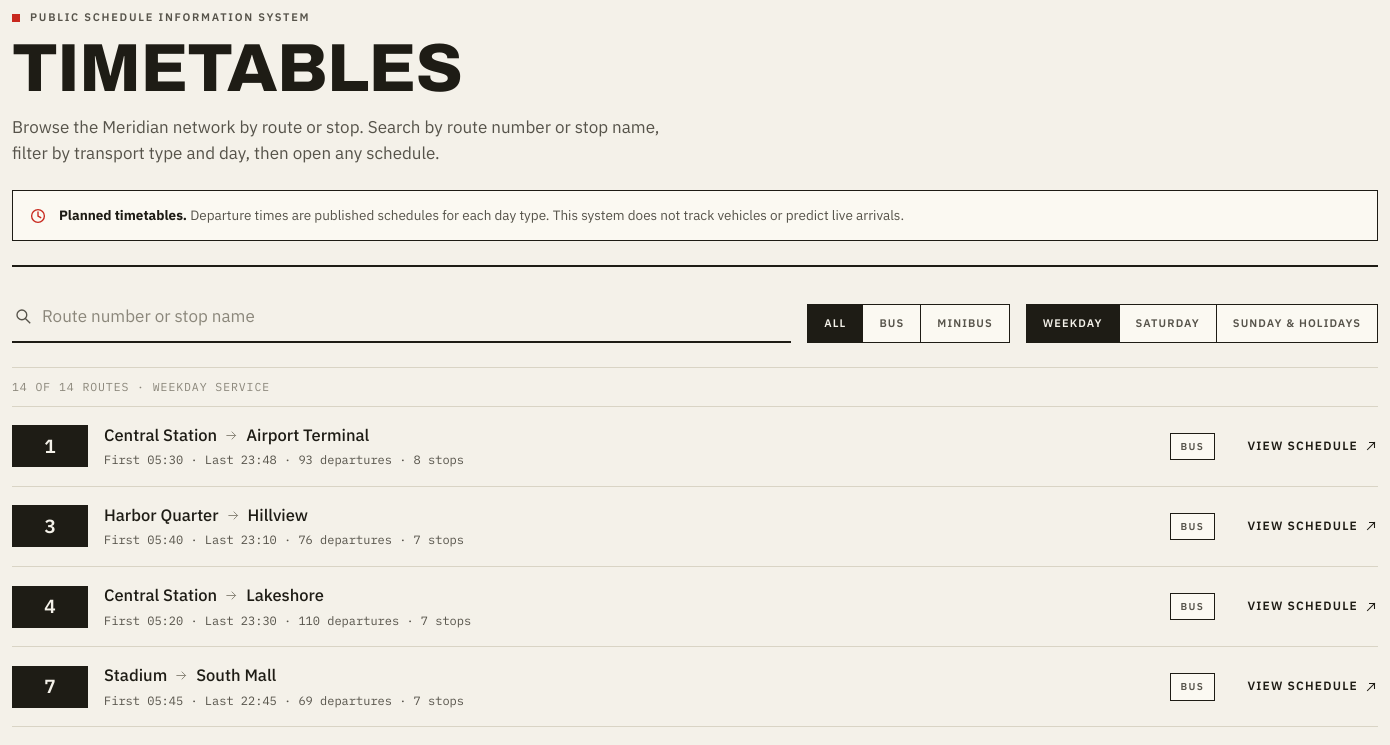
Test case: RouteListComponent › shows the empty state for unmatched searches and restores rows on reset
In the search field with id "route-search": coordinates (416, 316) [42,299,789,333], type "zzz-no-match"
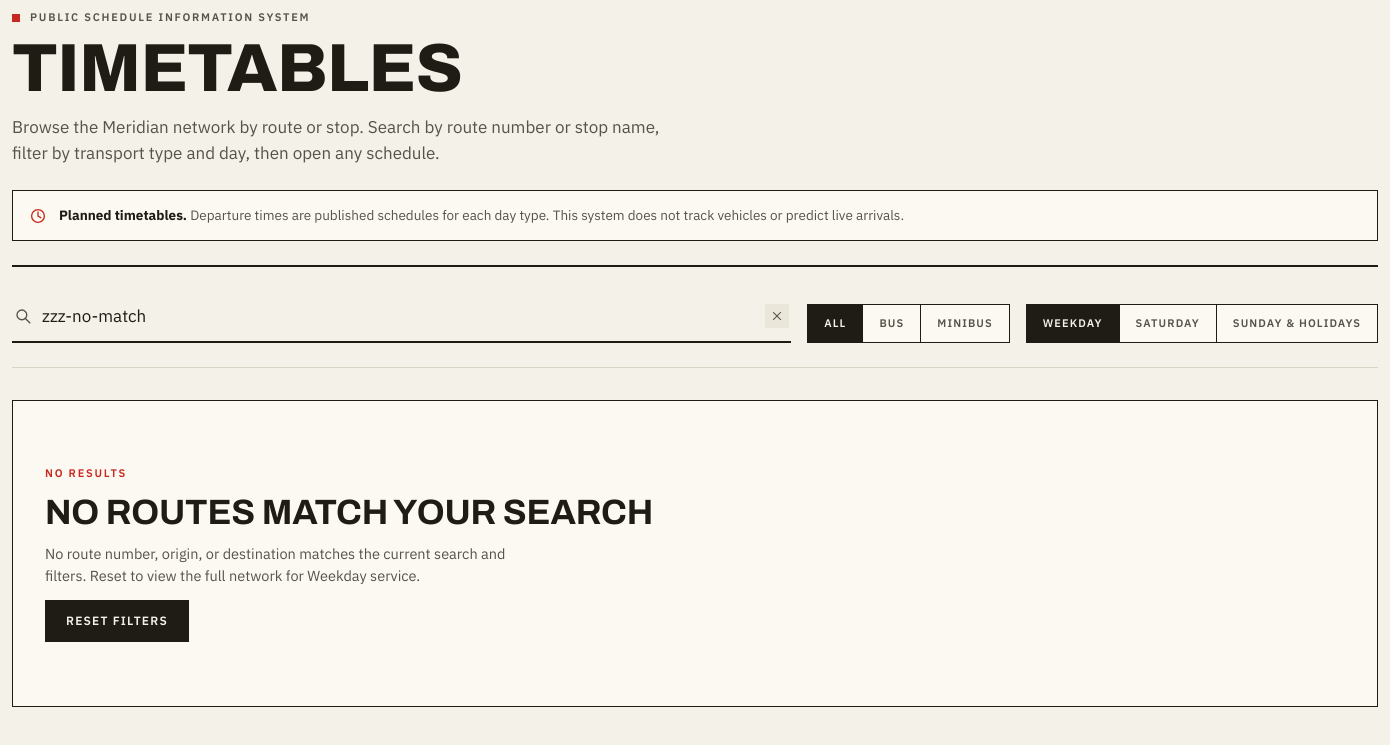
expect the element named "No routes match your search" is shown: met, box [12,400,1378,707]
expect the heading with class "empty-state__title" reads "No routes match your search": met, box [45,493,653,531]
expect the button "Reset filters" is shown: met
Click the button "Reset filters": coordinates (117, 621) [45,600,189,642]
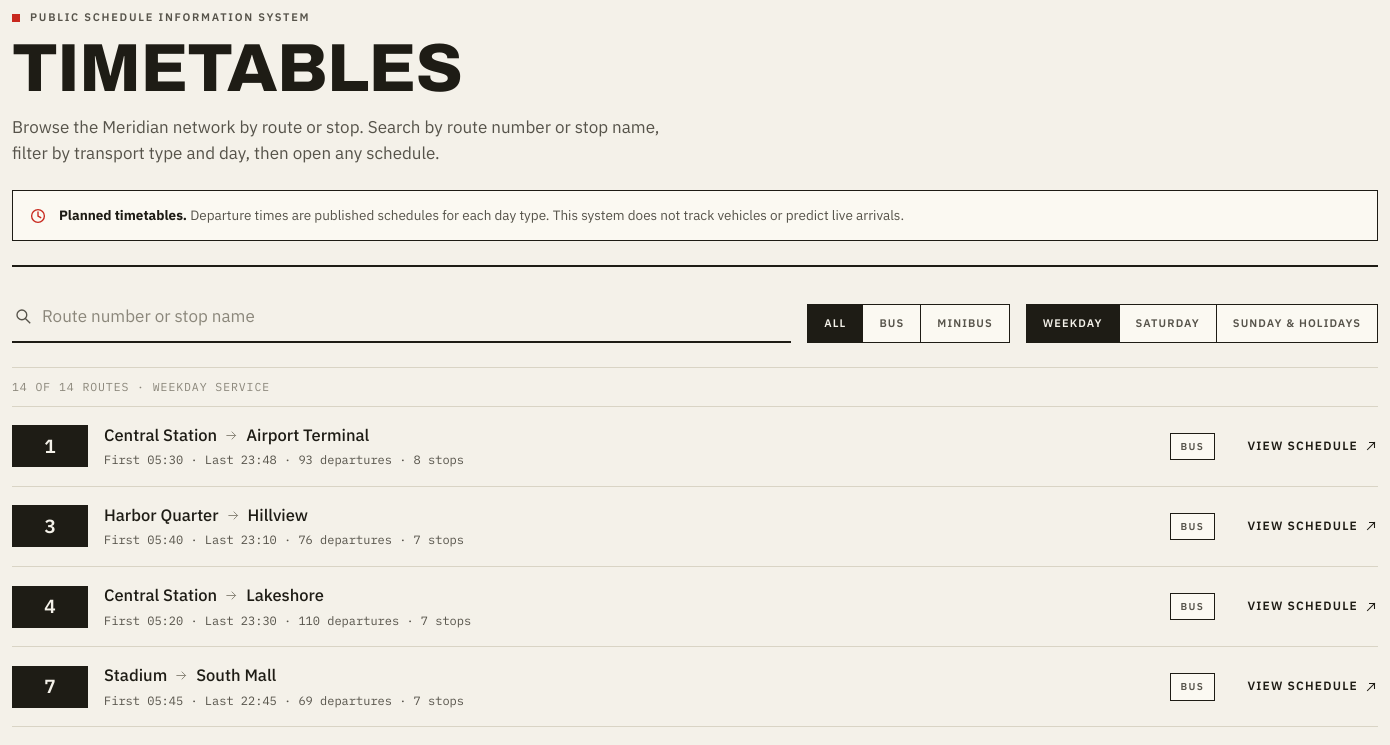
expect the number of elements with class "route-row" is 14: met
